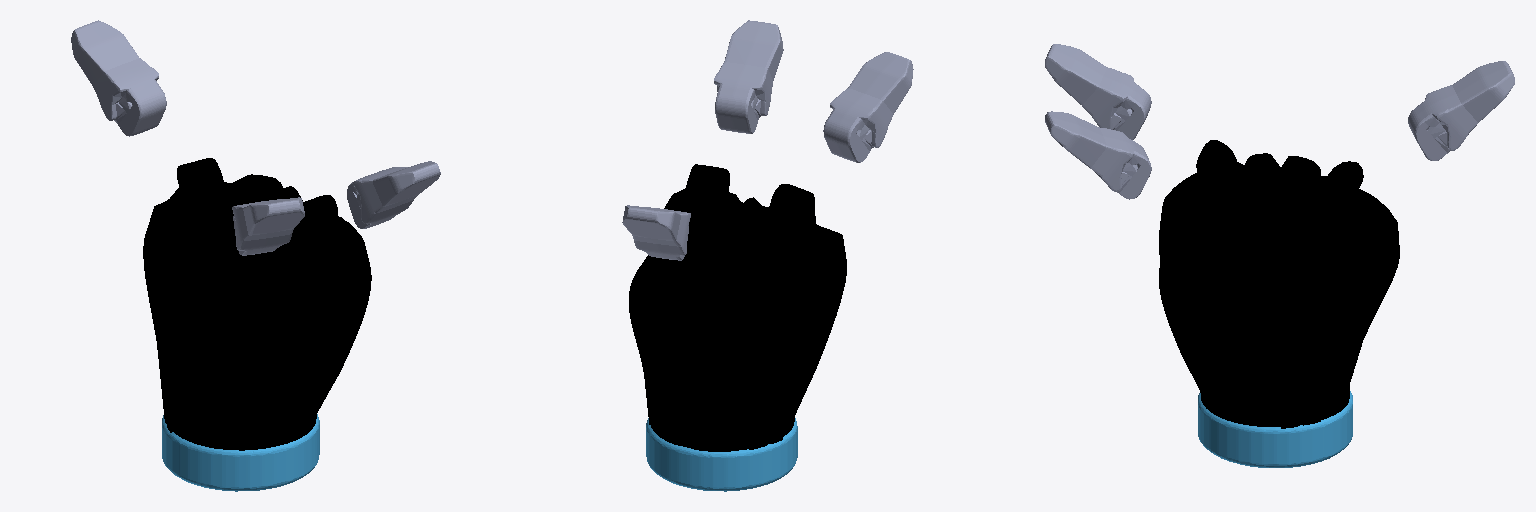
The robot description file, URDF, robot "j2n6s300":
<?xml version="1.0" ?>
<!-- source: https://github.com/Kinovarobotics/kinova-ros/tree/master/kinova_description -->
<!-- =================================================================================== -->
<!-- |    This document was autogenerated by xacro from [local-path]/research/grasp/catkin_ws/src/kinova-ros/kinova_description/urdf/j2n6s300_standalone.xacro | -->
<!-- |    EDITING THIS FILE BY HAND IS NOT RECOMMENDED                                 | -->
<!-- =================================================================================== -->
<!-- j2n6s300 refers to jaco v2 6DOF non-spherical 3fingers -->
<robot name="j2n6s300" xmlns:body="http://playerstage.sourceforge.net/gazebo/xmlschema/#body" xmlns:controller="http://playerstage.sourceforge.net/gazebo/xmlschema/#controller" xmlns:gazebo="http://playerstage.sourceforge.net/gazebo/xmlschema/#gz" xmlns:geom="http://playerstage.sourceforge.net/gazebo/xmlschema/#geom" xmlns:interface="http://playerstage.sourceforge.net/gazebo/xmlschema/#interface" xmlns:joint="http://playerstage.sourceforge.net/gazebo/xmlschema/#joint" xmlns:model="http://playerstage.sourceforge.net/gazebo/xmlschema/#model" xmlns:physics="http://playerstage.sourceforge.net/gazebo/xmlschema/#physics" xmlns:renderable="http://playerstage.sourceforge.net/gazebo/xmlschema/#renderable" xmlns:rendering="http://playerstage.sourceforge.net/gazebo/xmlschema/#rendering" xmlns:sensor="http://playerstage.sourceforge.net/gazebo/xmlschema/#sensor" xmlns:xacro="http://www.ros.org/wiki/xacro" xmlns:xi="http://www.w3.org/2001/XInclude">
  <!-- links      		mesh_no
   base           		0
   shoulder       		1
   arm            		2
   forearm        		3
   wrist          		4
   arm_mico       		5
   arm_half1 (7dof)		6
   arm_half2 (7dof)		7
   wrist_spherical_1  8
   wrist_spherical_2  9

   hand 3 finger  		55
   hand_2finger   		56
   finger_proximal		57
   finger_distal      58
-->
  <!-- links      		mesh_no
   base           		0
   shoulder       		1
   arm            		2
   forearm        		3
   wrist          		4
   arm_mico       		5
   arm_half1 (7dof)		6
   arm_half2 (7dof)		7
   wrist_spherical_1  8
   wrist_spherical_2  9

   hand 3 finger  		55
   hand_2finger   		56
   finger_proximal		57
   finger_distal      58
-->
  <link name="world"/>
  <joint name="world_to_palm" type="fixed">
    <parent link="world"/>
    <child link="j2n6s300_link_6"/>
    <origin rpy="0 3.1415926 0" xyz="0 0 -0.1125"/>
  </joint>


  <link name="j2n6s300_link_6">
    <visual>
      <geometry>
        <mesh filename="meshes/hand_3finger.obj"/>
      </geometry>
      <material name="black">
        <color rgba="0 0 0 1"/>
      </material>
    </visual>
    <visual>
      <geometry>
        <mesh filename="meshes/ring_small.obj"/>
      </geometry>
    </visual>
    <collision>
      <geometry>
        <mesh filename="meshes/hand_3finger.obj"/>
      </geometry>
    </collision>
    <inertial>
      <mass value="0.99"/>
      <origin xyz="0 0 -0.06"/>
      <inertia ixx="0.0003453236187" ixy="0" ixz="0" iyy="0.0003453236187" iyz="0" izz="0.0005816"/>
    </inertial>
  </link>
  <link name="j2n6s300_link_finger_1">
    <visual>
      <geometry>
        <mesh filename="meshes/finger_proximal.obj"/>
      </geometry>
      <material name="carbon_fiber">
        <color rgba="0.6337254901960785 0.655686274509804 0.7466666666666665 1"/>
      </material>
    </visual>
    <collision> 
      <geometry>
        <mesh filename="meshes/finger_proximal.obj"/>
      </geometry>
    </collision>
    <inertial>
      <mass value="0.01"/>
      <origin xyz="0.022 0 0"/>
      <inertia ixx="7.8999684e-07" ixy="0" ixz="0" iyy="7.8999684e-07" iyz="0" izz="8e-08"/>
    </inertial>
  </link>
  <joint name="j2n6s300_joint_finger_1" type="revolute">
    <parent link="j2n6s300_link_6"/>
    <child link="j2n6s300_link_finger_1"/>
    <axis xyz="0 0 1"/>
    <origin rpy="-1.570796327 .649262481663582 1.35961148639407" xyz="0.00279 0.03126 -0.11467"/>
    <limit effort="2" lower="0" upper="1.51" velocity="1"/>
  </joint>
  <transmission name="j2n6s300_joint_finger_1_trans">
    <type>transmission_interface/SimpleTransmission</type>
    <joint name="j2n6s300_joint_finger_1">
      <hardwareInterface>hardware_interface/EffortJointInterface</hardwareInterface>
    </joint>
    <actuator name="j2n6s300_joint_finger_1_actuator">
      <hardwareInterface>hardware_interface/EffortJointInterface</hardwareInterface>
      <mechanicalReduction>1</mechanicalReduction>
    </actuator>
  </transmission>
  <link name="j2n6s300_link_finger_tip_1">
    <visual>
      <geometry>
        <mesh filename="meshes/finger_distal.obj"/>
      </geometry>
      <material name="carbon_fiber">
        <color rgba="0.6337254901960785 0.655686274509804 0.7466666666666665 1"/>
      </material>
    </visual>
    <collision>
      <geometry>
        <mesh filename="meshes/finger_distal.obj"/>
      </geometry>
    </collision>
    <inertial>
      <mass value="0.01"/>
      <origin xyz="0.022 0 0"/>
      <inertia ixx="7.8999684e-07" ixy="0" ixz="0" iyy="7.8999684e-07" iyz="0" izz="8e-08"/>
    </inertial>
  </link>
  <joint name="j2n6s300_joint_finger_tip_1" type="revolute">
    <parent link="j2n6s300_link_finger_1"/>
    <child link="j2n6s300_link_finger_tip_1"/>
    <axis xyz="0 0 1"/>
    <origin rpy="0 0 0" xyz="0.044 -0.003 0"/>
    <limit effort="2" lower="0" upper="2" velocity="1"/>
  </joint>

  <link name="finger_a_tip"/>
  <joint name="finger_a_dist_to_tip" type="fixed">
    <parent link="j2n6s300_link_finger_tip_1"/>
    <child link="finger_a_tip"/>
    <origin rpy="0 0 0" xyz="0.043 -0.006 0"/>
  </joint>

  <transmission name="j2n6s300_joint_finger_tip_1_trans">
    <type>transmission_interface/SimpleTransmission</type>
    <joint name="j2n6s300_joint_finger_tip_1">
      <hardwareInterface>hardware_interface/EffortJointInterface</hardwareInterface>
    </joint>
    <actuator name="j2n6s300_joint_finger_tip_1_actuator">
      <hardwareInterface>hardware_interface/EffortJointInterface</hardwareInterface>
      <mechanicalReduction>1</mechanicalReduction>
    </actuator>
  </transmission>
  <link name="j2n6s300_link_finger_2">
    <visual>
      <geometry>
        <mesh filename="meshes/finger_proximal.obj"/>
      </geometry>
      <material name="carbon_fiber">
        <color rgba="0.6337254901960785 0.655686274509804 0.7466666666666665 1"/>
      </material>
    </visual>
    <collision>
      <geometry>
        <mesh filename="meshes/finger_proximal.obj"/>
      </geometry>
    </collision>
    <inertial>
      <mass value="0.01"/>
      <origin xyz="0.022 0 0"/>
      <inertia ixx="7.8999684e-07" ixy="0" ixz="0" iyy="7.8999684e-07" iyz="0" izz="8e-08"/>
    </inertial>
  </link>
  <joint name="j2n6s300_joint_finger_2" type="revolute">
    <parent link="j2n6s300_link_6"/>
    <child link="j2n6s300_link_finger_2"/>
    <axis xyz="0 0 1"/>
    <origin rpy="-1.570796327 .649262481663582 -1.38614049188413" xyz="0.02226 -0.02707 -0.11482"/>
    <limit effort="2" lower="0" upper="1.51" velocity="1"/>
  </joint>
  <transmission name="j2n6s300_joint_finger_2_trans">
    <type>transmission_interface/SimpleTransmission</type>
    <joint name="j2n6s300_joint_finger_2">
      <hardwareInterface>hardware_interface/EffortJointInterface</hardwareInterface>
    </joint>
    <actuator name="j2n6s300_joint_finger_2_actuator">
      <hardwareInterface>hardware_interface/EffortJointInterface</hardwareInterface>
      <mechanicalReduction>1</mechanicalReduction>
    </actuator>
  </transmission>
  <link name="j2n6s300_link_finger_tip_2">
    <visual>
      <geometry>
        <mesh filename="meshes/finger_distal.obj"/>
      </geometry>
      <material name="carbon_fiber">
        <color rgba="0.6337254901960785 0.655686274509804 0.7466666666666665 1"/>
      </material>
    </visual>
    <collision>
      <geometry>
        <mesh filename="meshes/finger_distal.obj"/>
      </geometry>
    </collision>
    <inertial>
      <mass value="0.01"/>
      <origin xyz="0.022 0 0"/>
      <inertia ixx="7.8999684e-07" ixy="0" ixz="0" iyy="7.8999684e-07" iyz="0" izz="8e-08"/>
    </inertial>
  </link>
  <joint name="j2n6s300_joint_finger_tip_2" type="revolute">
    <parent link="j2n6s300_link_finger_2"/>
    <child link="j2n6s300_link_finger_tip_2"/>
    <axis xyz="0 0 1"/>
    <origin rpy="0 0 0" xyz="0.044 -0.003 0"/>
    <limit effort="2" lower="0" upper="2" velocity="1"/>
  </joint>

  <link name="finger_b_tip"/>
  <joint name="finger_b_dist_to_tip" type="fixed">
    <parent link="j2n6s300_link_finger_tip_2"/>
    <child link="finger_b_tip"/>
    <origin rpy="0 0 0" xyz="0.043 -0.006 0"/>
  </joint>

  <transmission name="j2n6s300_joint_finger_tip_2_trans">
    <type>transmission_interface/SimpleTransmission</type>
    <joint name="j2n6s300_joint_finger_tip_2">
      <hardwareInterface>hardware_interface/EffortJointInterface</hardwareInterface>
    </joint>
    <actuator name="j2n6s300_joint_finger_tip_2_actuator">
      <hardwareInterface>hardware_interface/EffortJointInterface</hardwareInterface>
      <mechanicalReduction>1</mechanicalReduction>
    </actuator>
  </transmission>
  <link name="j2n6s300_link_finger_3">
    <visual>
      <geometry>
        <mesh filename="meshes/finger_proximal.obj"/>
      </geometry>
      <material name="carbon_fiber">
        <color rgba="0.6337254901960785 0.655686274509804 0.7466666666666665 1"/>
      </material>
    </visual>
    <collision>
      <geometry>
        <mesh filename="meshes/finger_proximal.obj"/>
      </geometry>
    </collision>
    <inertial>
      <mass value="0.01"/>
      <origin xyz="0.022 0 0"/>
      <inertia ixx="7.8999684e-07" ixy="0" ixz="0" iyy="7.8999684e-07" iyz="0" izz="8e-08"/>
    </inertial>
  </link>
  <joint name="j2n6s300_joint_finger_3" type="revolute">
    <parent link="j2n6s300_link_6"/>
    <child link="j2n6s300_link_finger_3"/>
    <axis xyz="0 0 1"/>
    <origin rpy="-1.570796327 .649262481663582 -1.75545216211587" xyz="-0.02226 -0.02707 -0.11482"/>
    <limit effort="2" lower="0" upper="1.51" velocity="1"/>
  </joint>

  <transmission name="j2n6s300_joint_finger_3_trans">
    <type>transmission_interface/SimpleTransmission</type>
    <joint name="j2n6s300_joint_finger_3">
      <hardwareInterface>hardware_interface/EffortJointInterface</hardwareInterface>
    </joint>
    <actuator name="j2n6s300_joint_finger_3_actuator">
      <hardwareInterface>hardware_interface/EffortJointInterface</hardwareInterface>
      <mechanicalReduction>1</mechanicalReduction>
    </actuator>
  </transmission>
  <link name="j2n6s300_link_finger_tip_3">
    <visual>
      <geometry>
        <mesh filename="meshes/finger_distal.obj"/>
      </geometry>
      <material name="carbon_fiber">
        <color rgba="0.6337254901960785 0.655686274509804 0.7466666666666665 1"/>
      </material>
    </visual>
    <collision>
      <geometry>
        <mesh filename="meshes/finger_distal.obj"/>
      </geometry>
    </collision>
    <inertial>
      <mass value="0.01"/>
      <origin xyz="0.022 0 0"/>
      <inertia ixx="7.8999684e-07" ixy="0" ixz="0" iyy="7.8999684e-07" iyz="0" izz="8e-08"/>
    </inertial>
  </link>
  <joint name="j2n6s300_joint_finger_tip_3" type="revolute">
    <parent link="j2n6s300_link_finger_3"/>
    <child link="j2n6s300_link_finger_tip_3"/>
    <axis xyz="0 0 1"/>
    <origin rpy="0 0 0" xyz="0.044 -0.003 0"/>
    <limit effort="2" lower="0" upper="2" velocity="1"/>
  </joint>

  <link name="finger_c_tip"/>
  <joint name="finger_c_dist_to_tip" type="fixed">
    <parent link="j2n6s300_link_finger_tip_3"/>
    <child link="finger_c_tip"/>
    <origin rpy="0 0 0" xyz="0.043 -0.006 0"/>
  </joint>

  <transmission name="j2n6s300_joint_finger_tip_3_trans">
    <type>transmission_interface/SimpleTransmission</type>
    <joint name="j2n6s300_joint_finger_tip_3">
      <hardwareInterface>hardware_interface/EffortJointInterface</hardwareInterface>
    </joint>
    <actuator name="j2n6s300_joint_finger_tip_3_actuator">
      <hardwareInterface>hardware_interface/EffortJointInterface</hardwareInterface>
      <mechanicalReduction>1</mechanicalReduction>
    </actuator>
  </transmission>
</robot>

--- Facts derived from the render (not from the file) ---
The picture shows the robot from 3 angles, left to right: view 1: azimuth 30°, elevation 25°; view 2: azimuth 150°, elevation 25°; view 3: azimuth 270°, elevation 25°; orthographic projection.
Robot: j2n6s300 — 11 links, 10 joints (6 revolute, 4 fixed); root link world; default pose: every joint at zero.
Links seen in each view (by area): view 1: j2n6s300_link_6, j2n6s300_link_finger_tip_1, j2n6s300_link_finger_tip_3, j2n6s300_link_finger_tip_2; view 2: j2n6s300_link_6, j2n6s300_link_finger_tip_2, j2n6s300_link_finger_tip_3, j2n6s300_link_finger_tip_1; view 3: j2n6s300_link_6, j2n6s300_link_finger_tip_1, j2n6s300_link_finger_tip_2, j2n6s300_link_finger_tip_3.
Link boxes in pixels (x1=…): j2n6s300_link_6: x1=143, y1=158, x2=371, y2=491; j2n6s300_link_finger_tip_1: x1=71, y1=20, x2=166, y2=136; j2n6s300_link_finger_tip_3: x1=347, y1=161, x2=440, y2=228; j2n6s300_link_finger_tip_2: x1=232, y1=197, x2=304, y2=255; j2n6s300_link_6: x1=629, y1=164, x2=846, y2=491; j2n6s300_link_finger_tip_2: x1=823, y1=52, x2=913, y2=162; j2n6s300_link_finger_tip_3: x1=714, y1=20, x2=783, y2=133; j2n6s300_link_finger_tip_1: x1=622, y1=205, x2=690, y2=260; j2n6s300_link_6: x1=1159, y1=140, x2=1399, y2=467; j2n6s300_link_finger_tip_1: x1=1408, y1=61, x2=1514, y2=160; j2n6s300_link_finger_tip_2: x1=1045, y1=44, x2=1151, y2=139; j2n6s300_link_finger_tip_3: x1=1045, y1=111, x2=1151, y2=199.
Bounding box of the posed robot: 0.0948 × 0.2091 × 0.1731 m (x, y, z).
5 mesh visuals loaded from 4 distinct referenced files (3 OBJ); not drawn: 3 (reference not matched to a file when rendering).